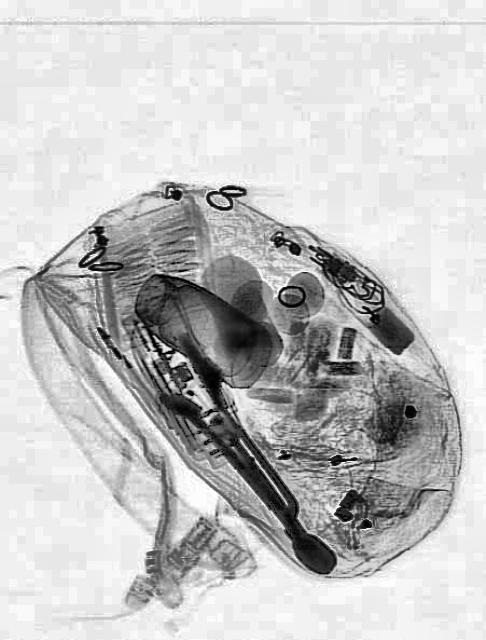Wrench: (156, 372, 340, 584)
